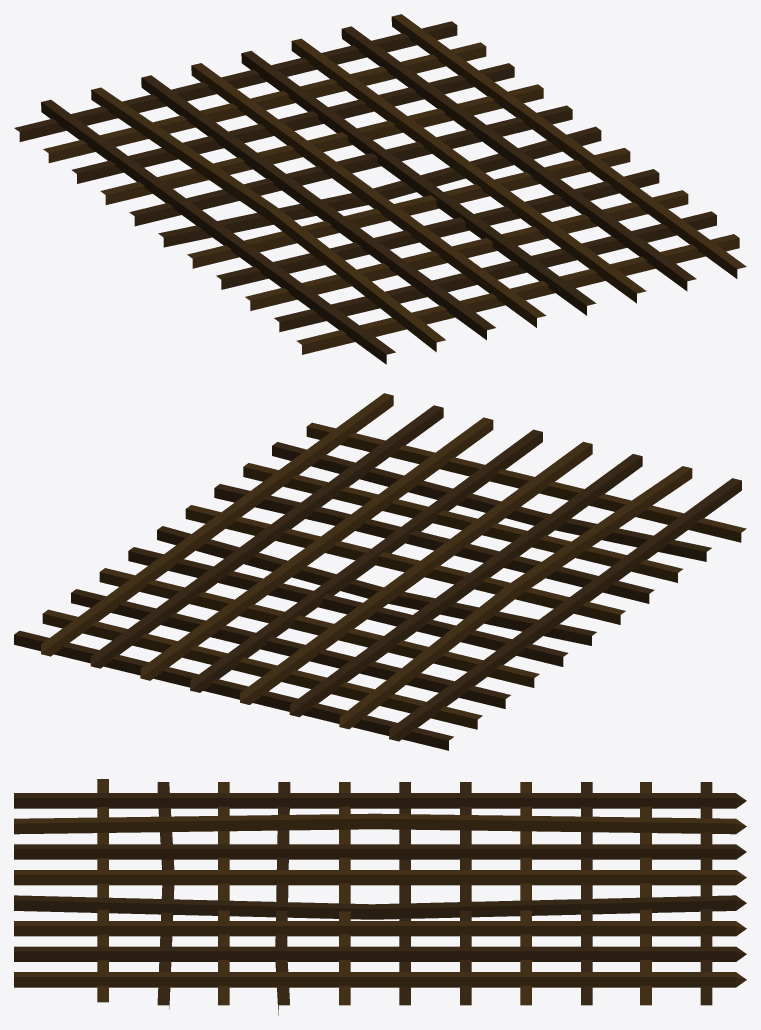
3 renders of one model, top to bottom at view 1: azimuth 30°, elevation 25°; view 2: azimuth 150°, elevation 25°; view 3: azimuth 270°, elevation 25°, orthographic. The views are drawn at different scales.
Parts seen in each view (by area): view 1: Object.1; view 2: Object.1; view 3: Object.1.
Part boxes in pixels (box(x1,y1,x2,y2)): Object.1: box(14, 14, 746, 364); Object.1: box(14, 393, 746, 750); Object.1: box(14, 779, 746, 1015).
Size of the model in its own units: 4156 by 288 by 5683.
1 material, 1 textured.
